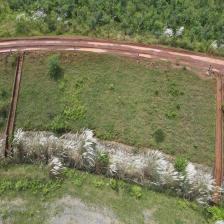slope drain: (4, 52, 23, 157), (214, 76, 223, 186)
vegetation: (45, 57, 62, 79)
